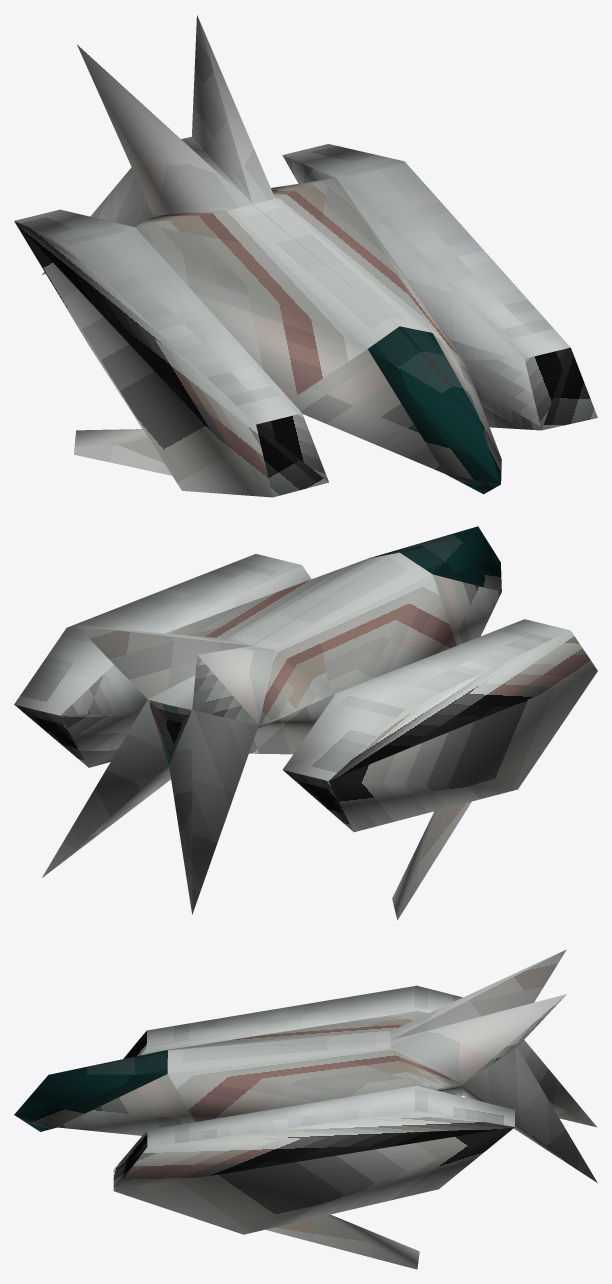
The picture shows the model from 3 angles, top to bottom: view 1: azimuth 30°, elevation 25°; view 2: azimuth 150°, elevation 25°; view 3: azimuth 270°, elevation 25°; orthographic projection. The views are drawn at different scales.
Parts seen in each view (by area): view 1: detail2_detail2-geometry; view 2: detail2_detail2-geometry; view 3: detail2_detail2-geometry.
Boxes of the visible parts, x1=… form: detail2_detail2-geometry: x1=14, y1=15, x2=597, y2=497; detail2_detail2-geometry: x1=14, y1=526, x2=597, y2=920; detail2_detail2-geometry: x1=14, y1=949, x2=597, y2=1269.
Bounding box in the file's own units: 14.39 × 12.75 × 28.34.
1 material, 1 textured.
